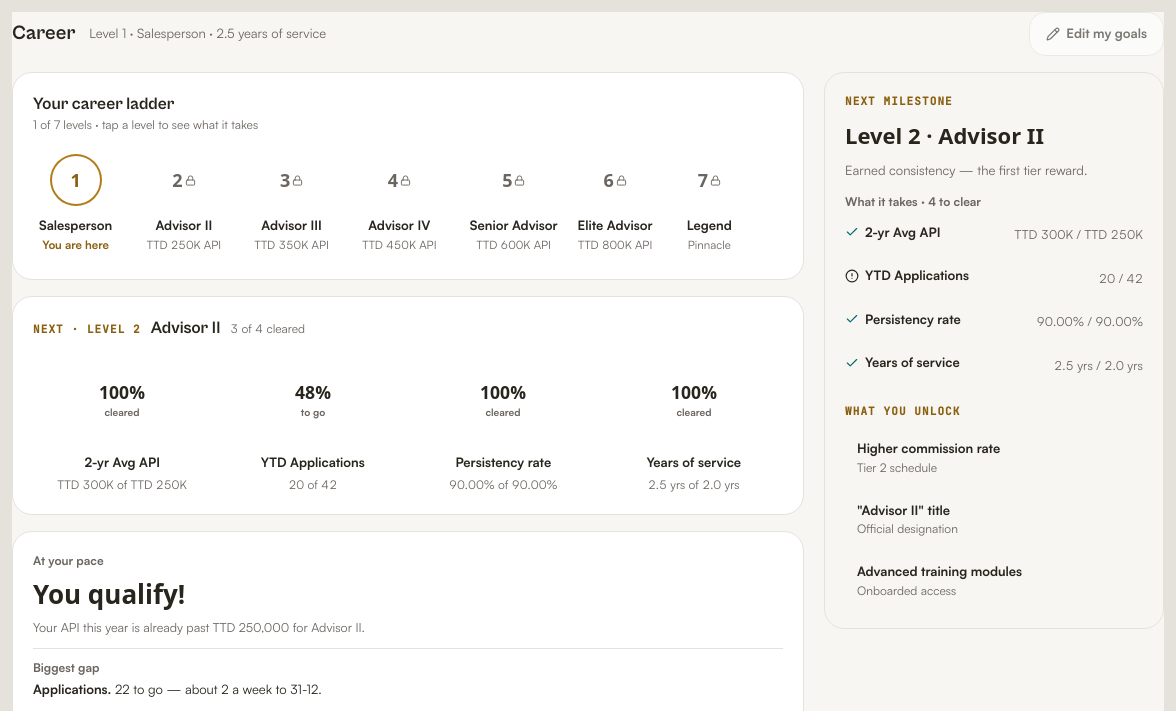
Scenario: FrCareer — screen › desktop: the next level is selected by default; picking a coin updates the inspector; every coin is a keyboard button
Expected: the element with test id "fr-career-header" shows "Level 1 · Salesperson", [12,12,1164,56]
Expected: the element with test id "fr-career-panel-2" is shown, [845,93,1143,608]
Click the button with test id "fr-career-coin-6" at point(615, 205), box [572,150,659,259]
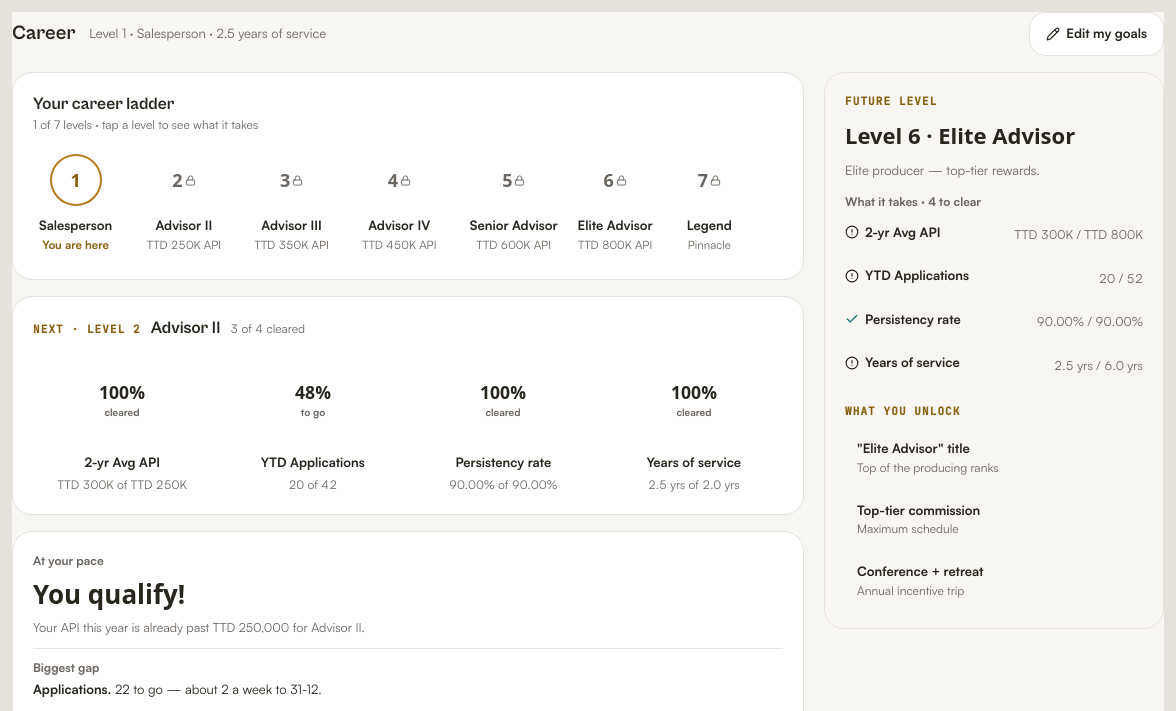
Now the element with test id "fr-career-panel-6" shows "\"Elite Advisor\" title", box [857,440,970,456]
